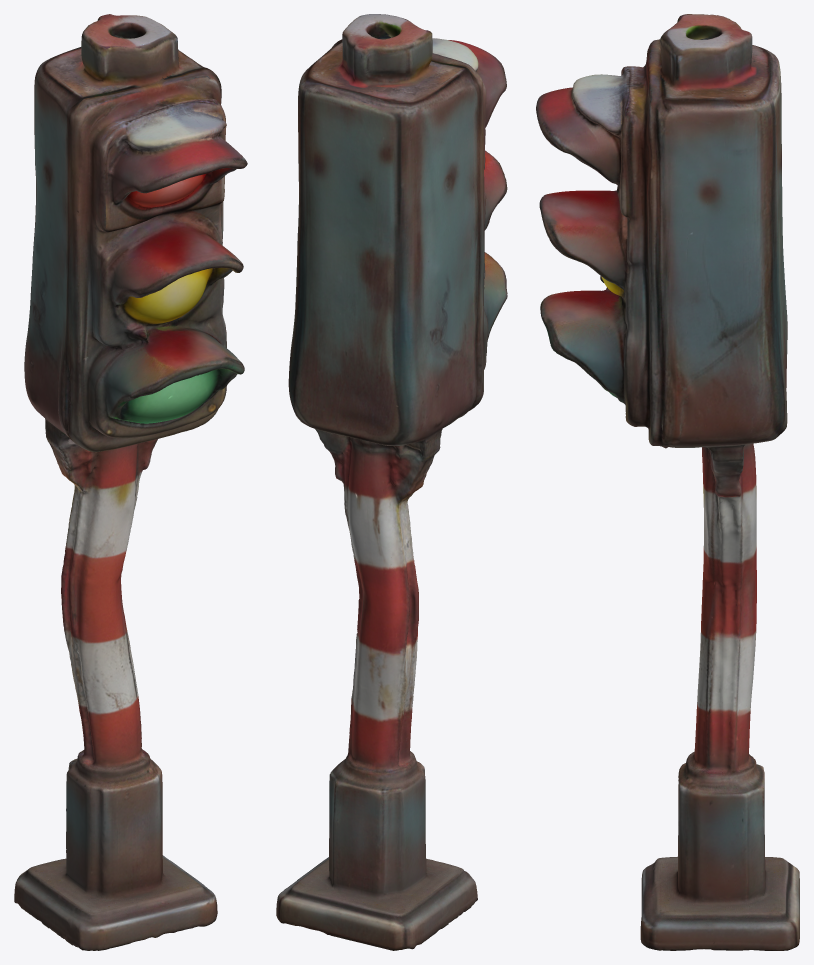
File: Traffic Signal.glb
The picture shows the model from 3 angles, left to right: view 1: azimuth 30°, elevation 25°; view 2: azimuth 150°, elevation 25°; view 3: azimuth 270°, elevation 25°; orthographic projection.
Bounding box in the file's own units: 0.3658 × 2 × 0.5391.
1 material, 1 textured.
